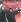with_mask: (1, 2, 21, 22)
